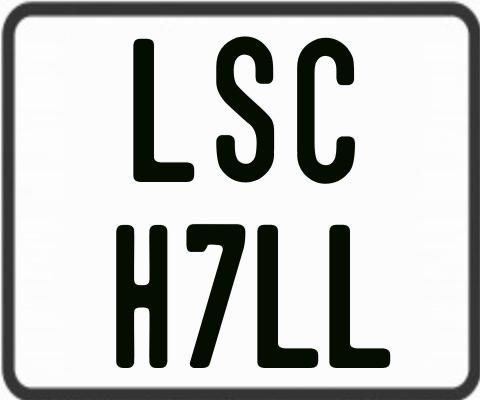7: (184, 224, 245, 368)
C: (296, 36, 358, 182)
H: (115, 225, 166, 372)
L: (254, 223, 321, 367), (327, 223, 390, 367), (132, 39, 194, 183)
S: (216, 33, 274, 179)
